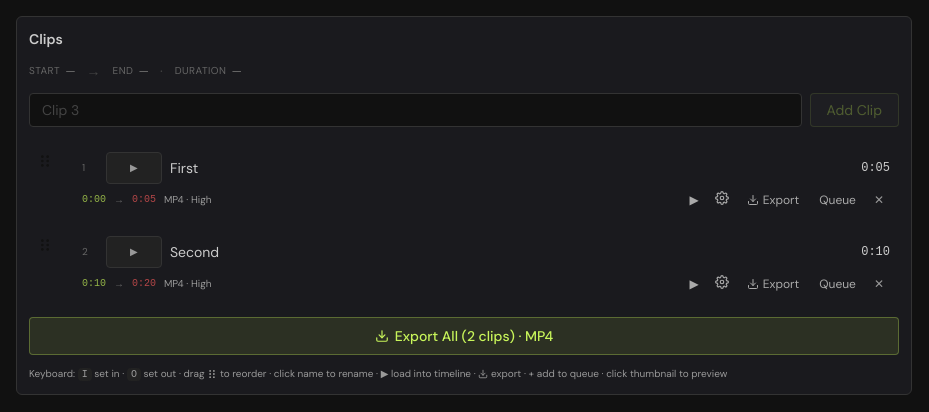
Test: ClipList — swipe-to-delete › shows swipe-to-delete background when swiping left past threshold
The image size is (929, 412).
Step 1. Press the mouse on the text "First" → (134, 168), box x1=29 y1=143 x2=899 y2=221
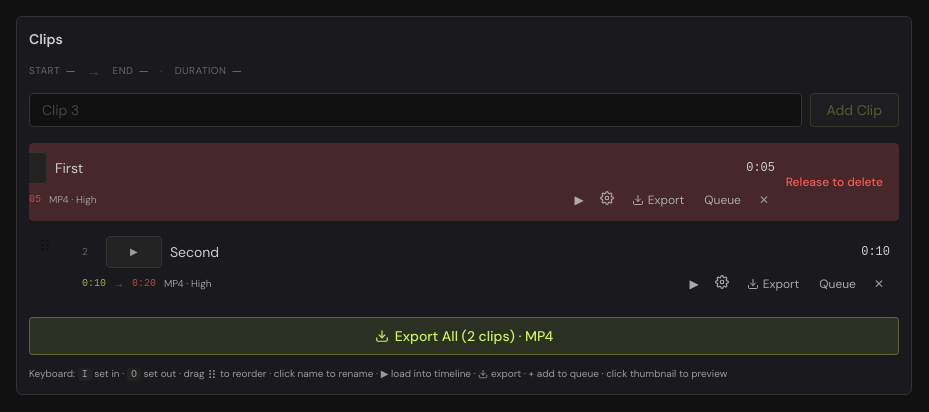
Expected: the text "Release to delete" is shown, x1=786 y1=174 x2=883 y2=190
